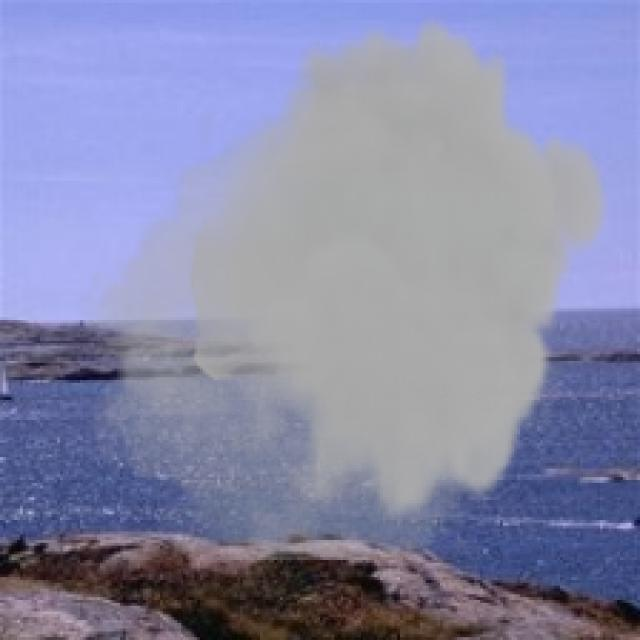smoke: (74, 14, 612, 560)
